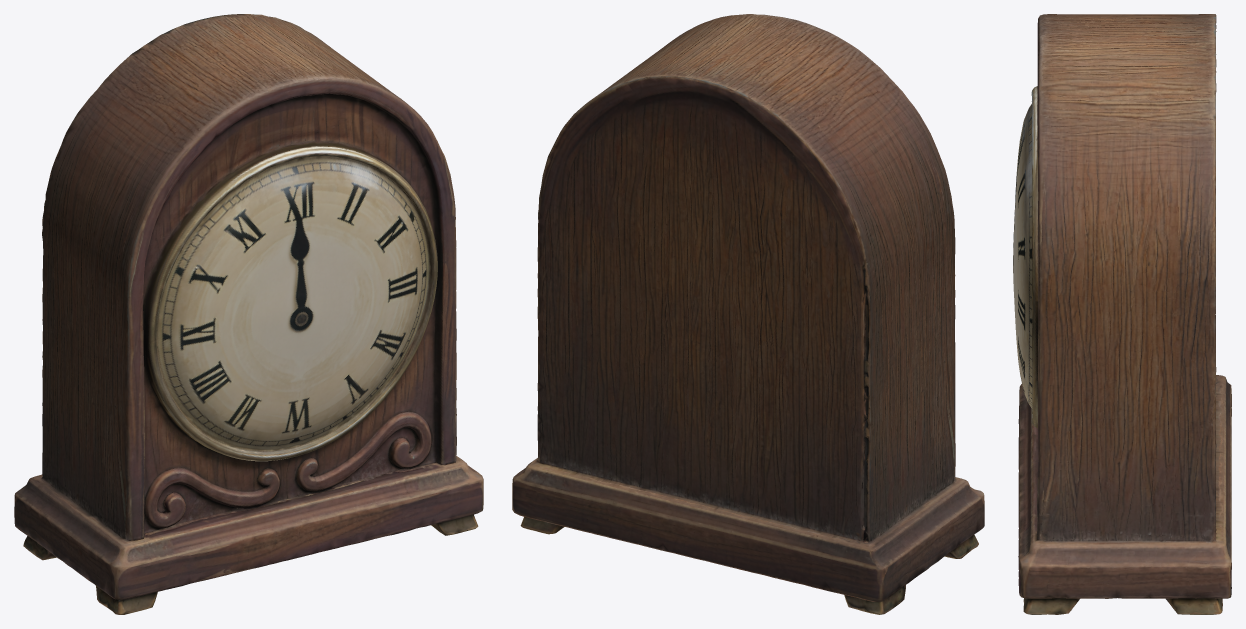
File: Prop_MantelClock.fbx
The picture shows the model from 3 angles, left to right: view 1: azimuth 30°, elevation 25°; view 2: azimuth 150°, elevation 25°; view 3: azimuth 270°, elevation 25°; orthographic projection.
Visible parts, largest first — view 1: texture_mapping; view 2: texture_mapping; view 3: texture_mapping.
Boxes of the visible parts, bbox=[...] form: texture_mapping: bbox=[14, 14, 483, 614]; texture_mapping: bbox=[512, 14, 984, 614]; texture_mapping: bbox=[1013, 14, 1231, 614].
Bounding box in the file's own units: 0.8006 × 0.4026 × 1.
1 material, 1 textured.
